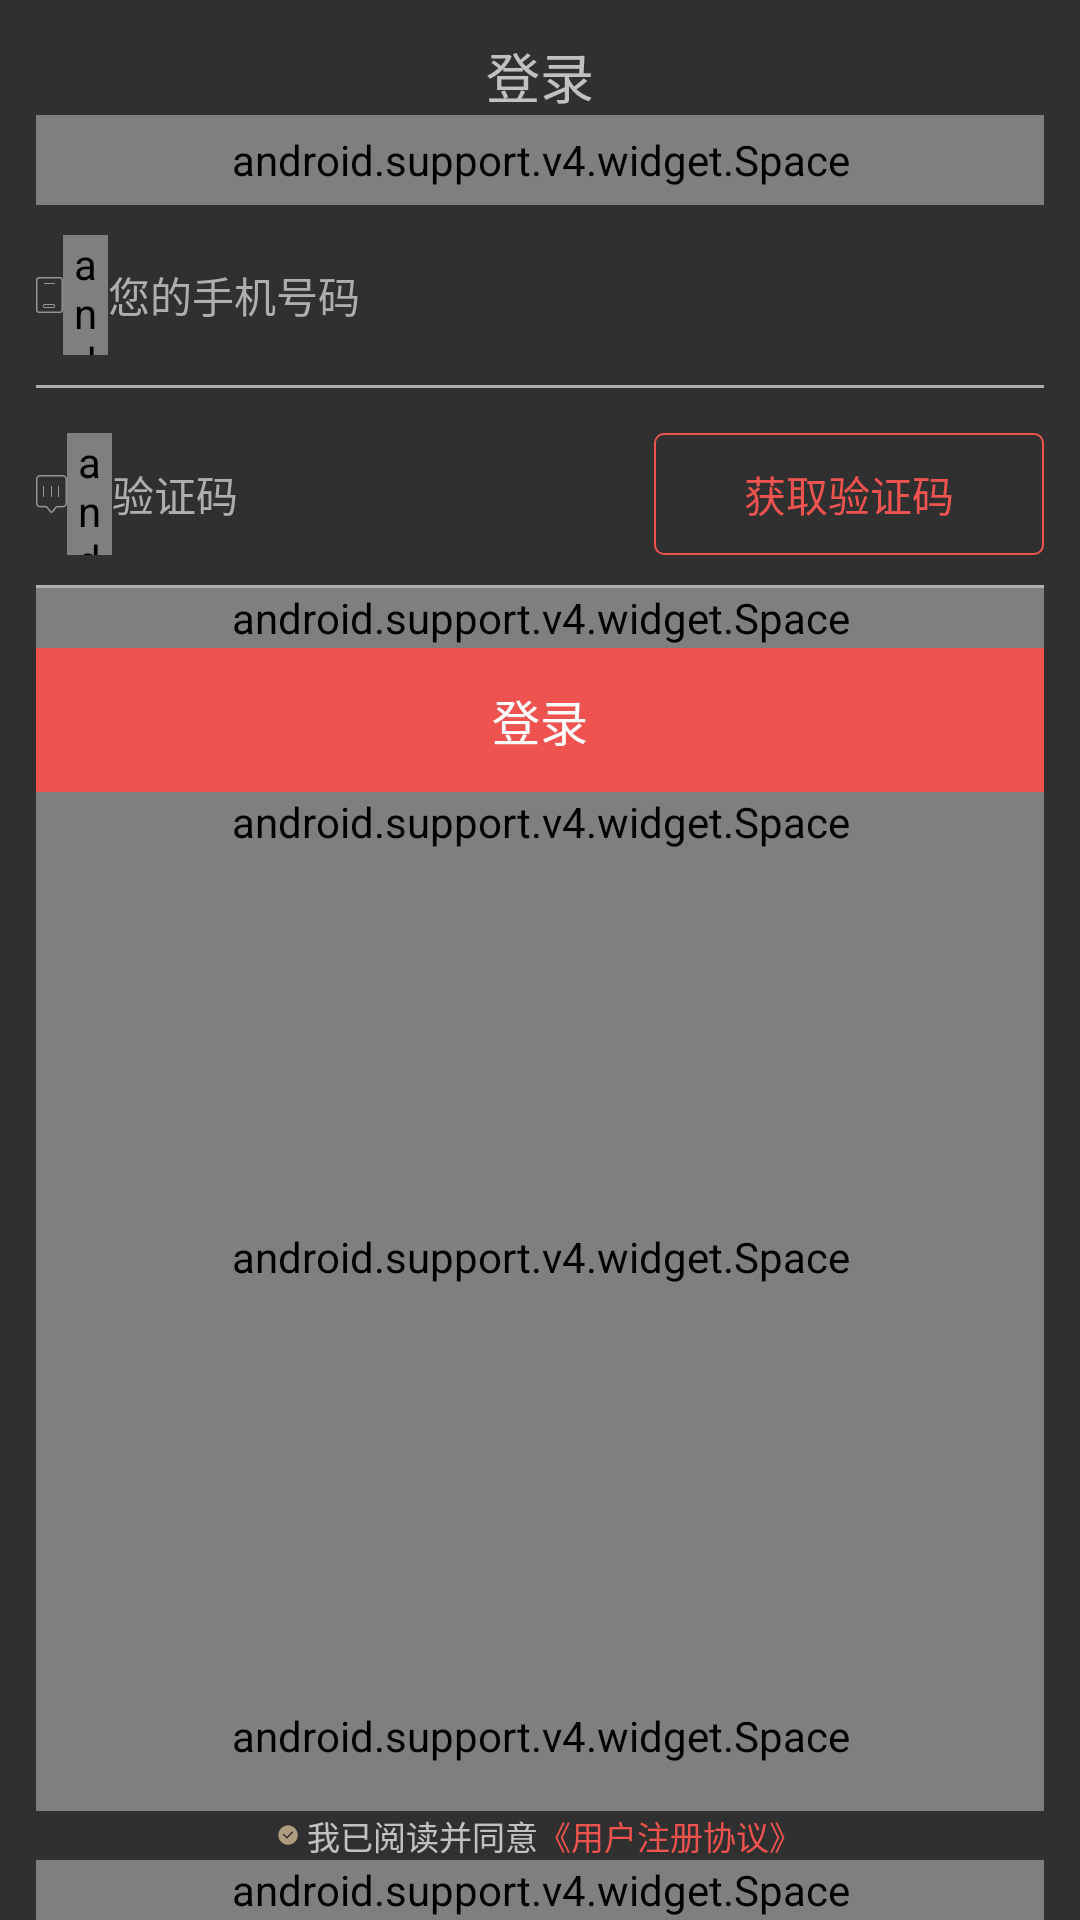

Named icons in this screenshot (1080 x 1920) and their centers, point (x, y):
login phone: point (49, 295)
login verification: point (51, 494)
